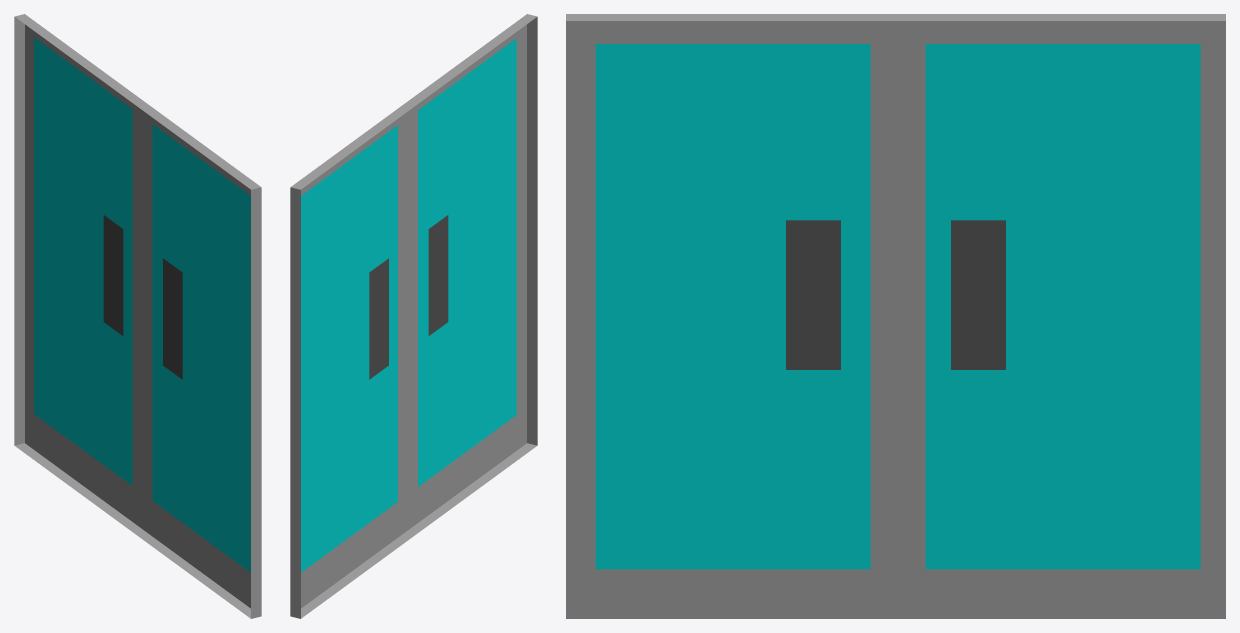
File: kitsch_wall_door_01_LOD1.fbx
3 views of the same model, side by side, from view 1: azimuth 30°, elevation 25°; view 2: azimuth 150°, elevation 25°; view 3: azimuth 270°, elevation 25° (orthographic). The views are drawn at different scales.
Visible parts, largest first — view 1: kitsch_wall_door_01_LOD1; view 2: kitsch_wall_door_01_LOD1; view 3: kitsch_wall_door_01_LOD1.
Part boxes in pixels (x1=…): kitsch_wall_door_01_LOD1: x1=14, y1=14, x2=261, y2=618; kitsch_wall_door_01_LOD1: x1=290, y1=14, x2=537, y2=618; kitsch_wall_door_01_LOD1: x1=566, y1=14, x2=1225, y2=618.
Bounding box in the file's own units: 0.0763 × 3 × 3.
